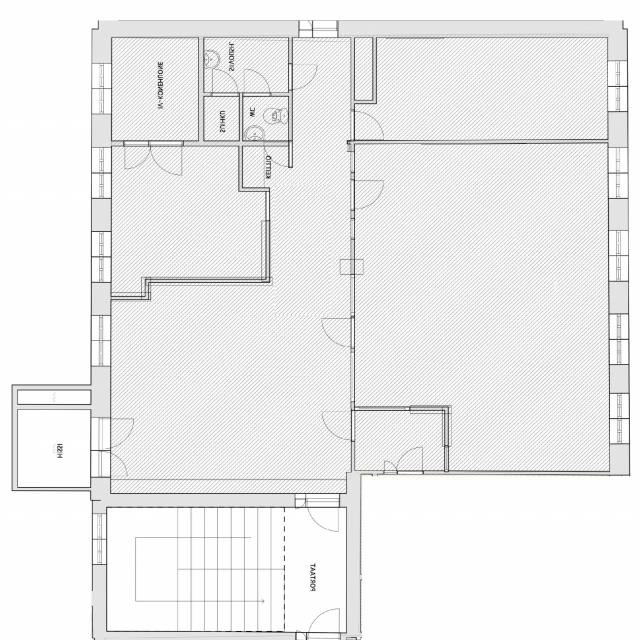door: (306, 493, 339, 538), (90, 447, 140, 476), (90, 419, 140, 447), (308, 601, 339, 640), (150, 140, 182, 176), (351, 180, 384, 209), (351, 111, 384, 139), (322, 412, 354, 440), (322, 318, 354, 346), (313, 0, 337, 37), (125, 140, 150, 170), (212, 68, 238, 96), (244, 68, 270, 96), (397, 446, 422, 475), (288, 65, 318, 89), (299, 8, 312, 38), (295, 493, 306, 517), (296, 619, 308, 640), (384, 459, 396, 475)
